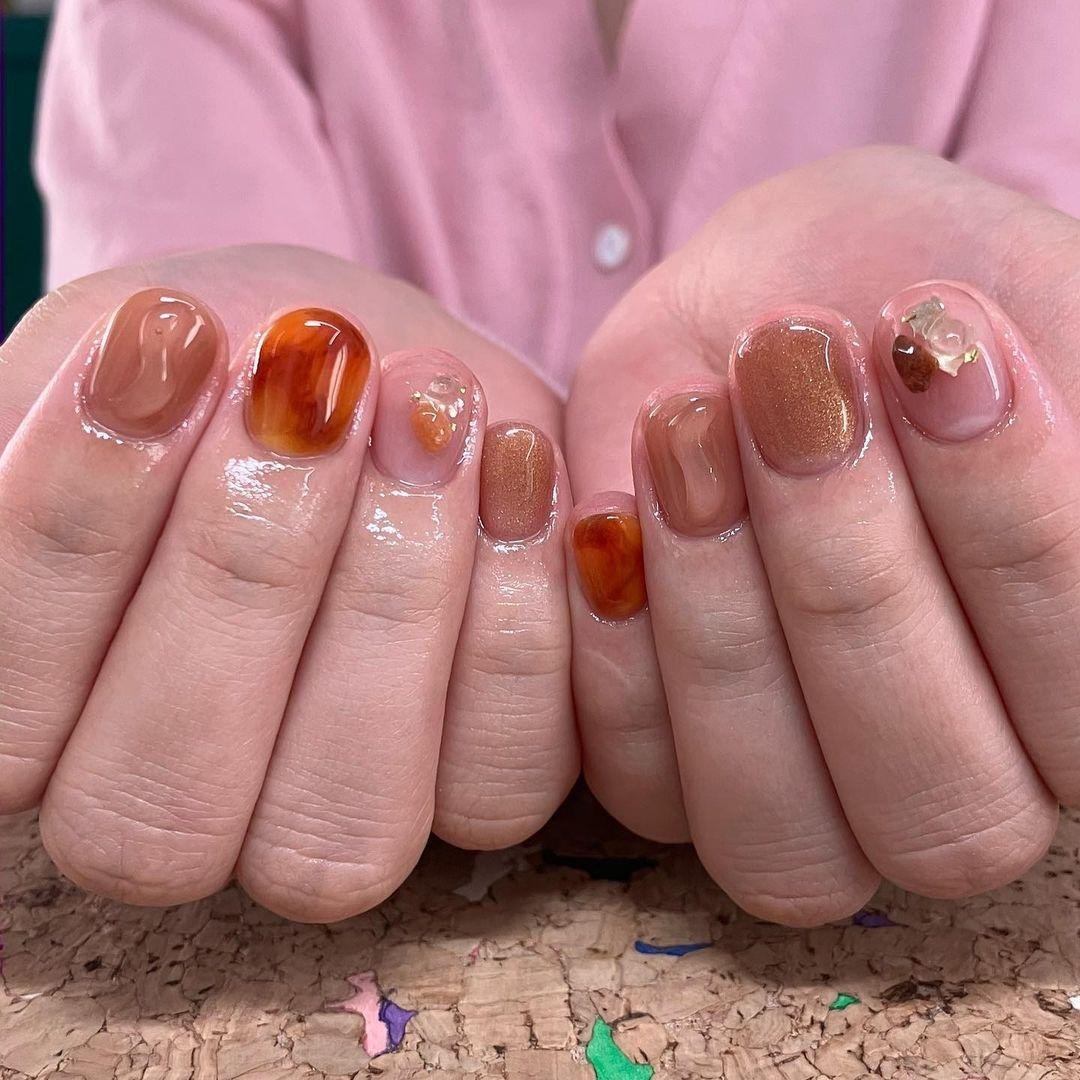nail: (727, 306, 870, 478), (74, 285, 225, 445), (872, 278, 1016, 445), (242, 304, 372, 459), (635, 379, 747, 538), (370, 345, 480, 488), (567, 490, 649, 623), (478, 418, 557, 545)
